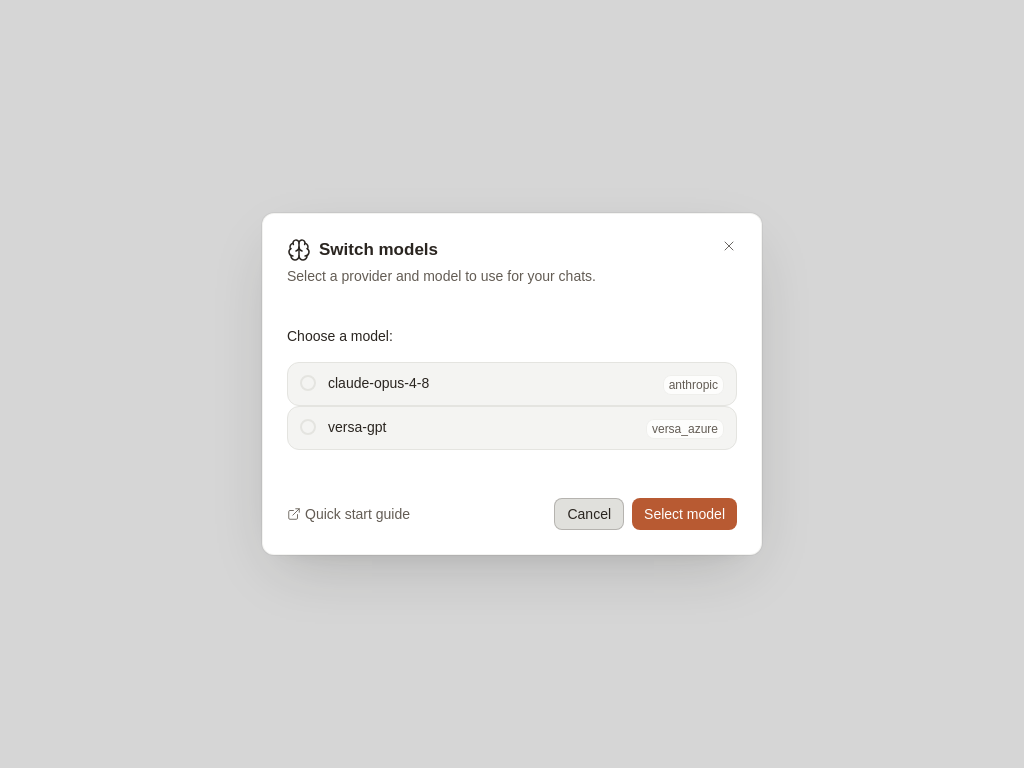
Scenario: SwitchModelModal — the predefined-model list is the same pre-flight › refuses a public predefined model in a private chat, with the same reason
Click the text "claude-opus-4-8". click: x=379, y=383
box: top-left (328, 373), bottom-right (429, 393)
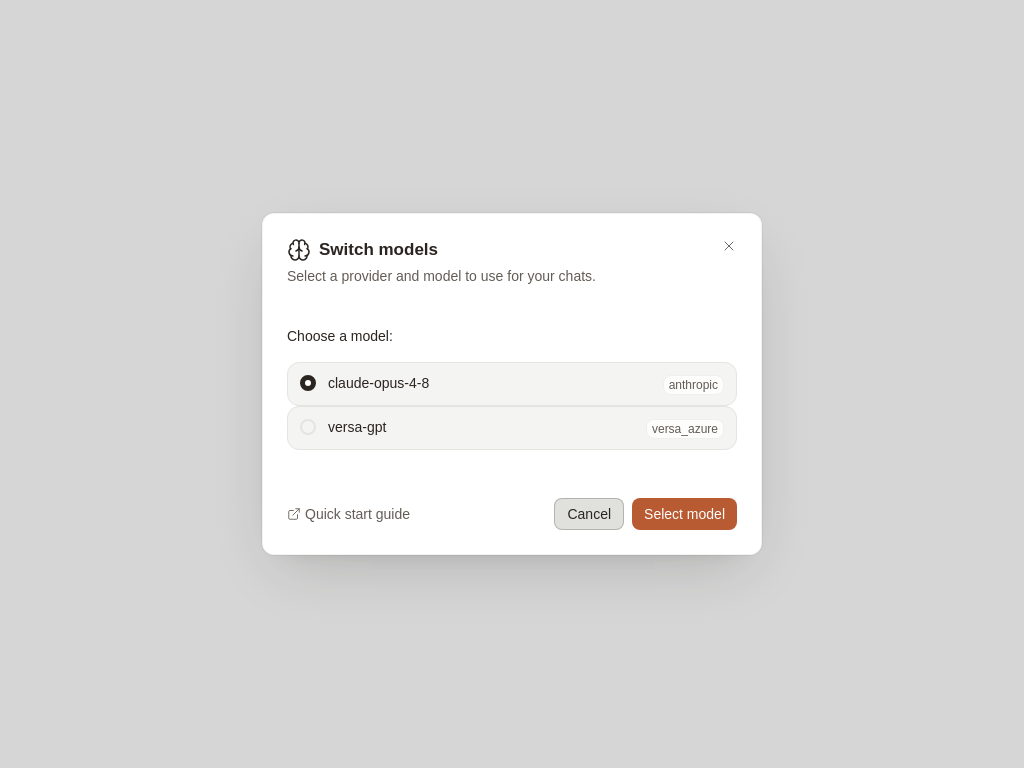
Click the button "Select model". click: x=685, y=514
box: top-left (632, 498), bottom-right (737, 530)
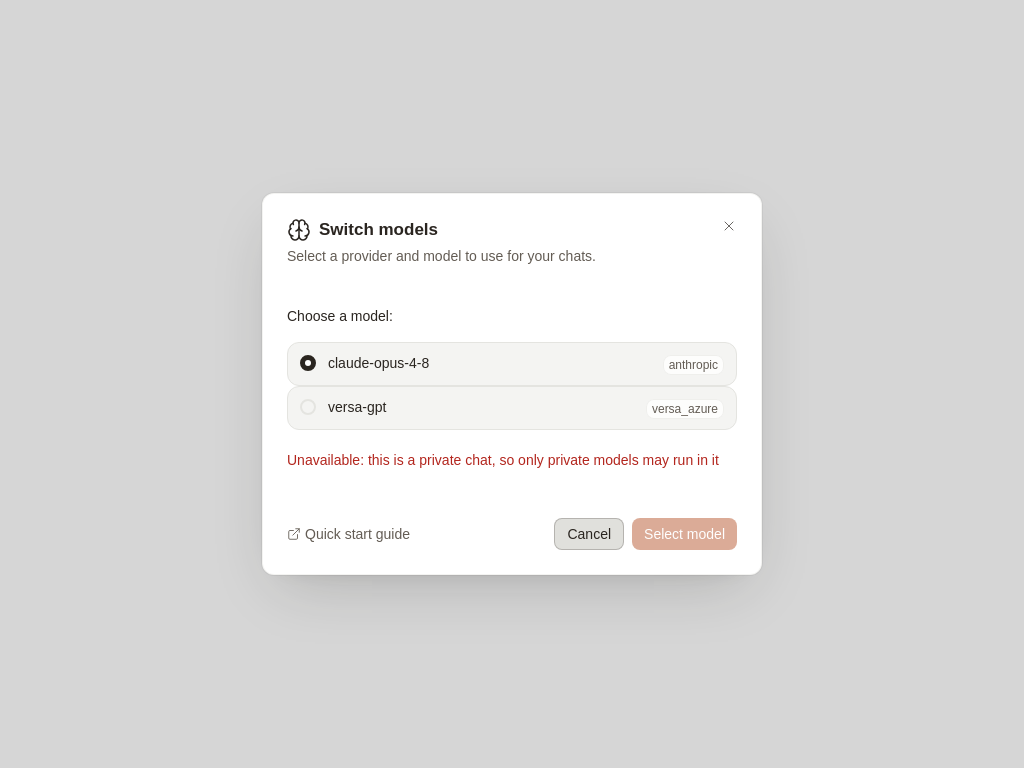
Expected: the text "private chat" is shown, top-left (287, 452), bottom-right (719, 468)
